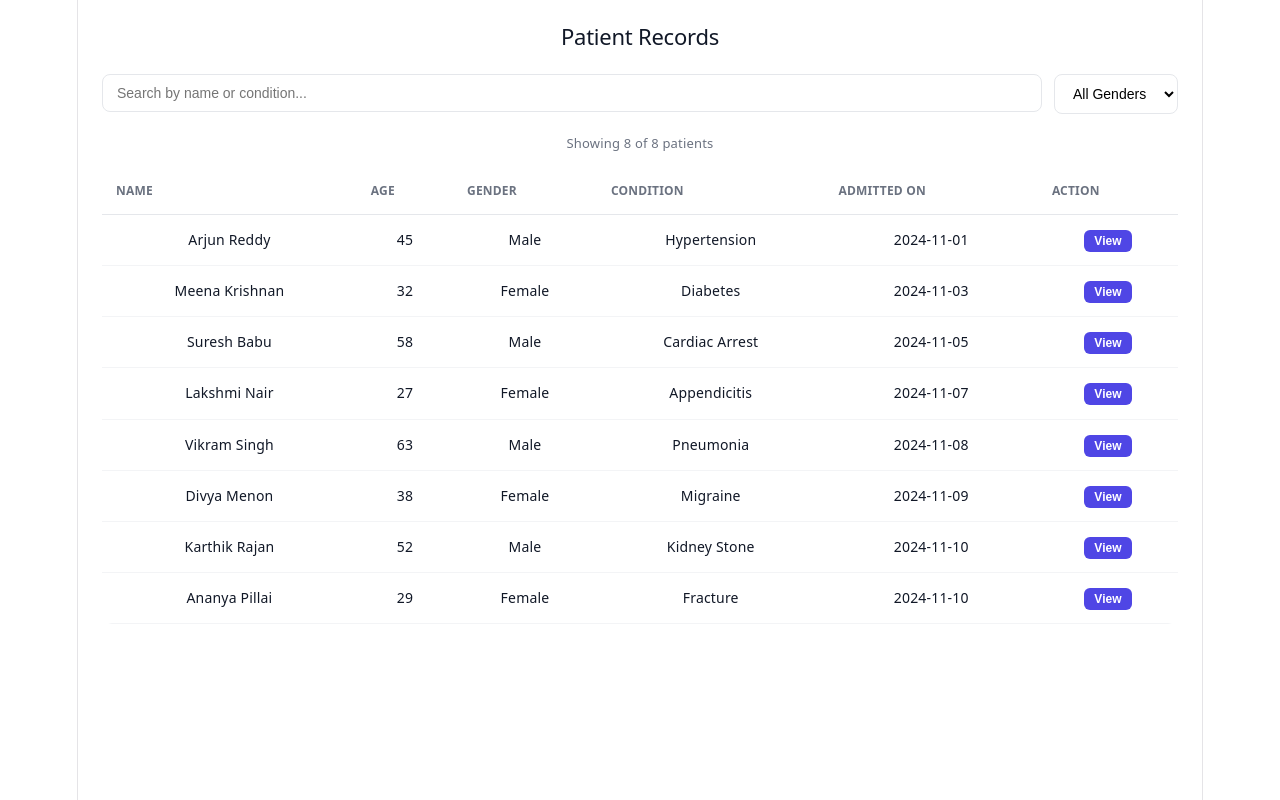
Test case: Patients page › filters patients by search term
Expected: the text "Arjun Reddy" is shown, 102,215 -> 357,266
Type "Meena" into the field with placeholder "Search by name or condition..." at (572, 93), box 102,74 -> 1042,112
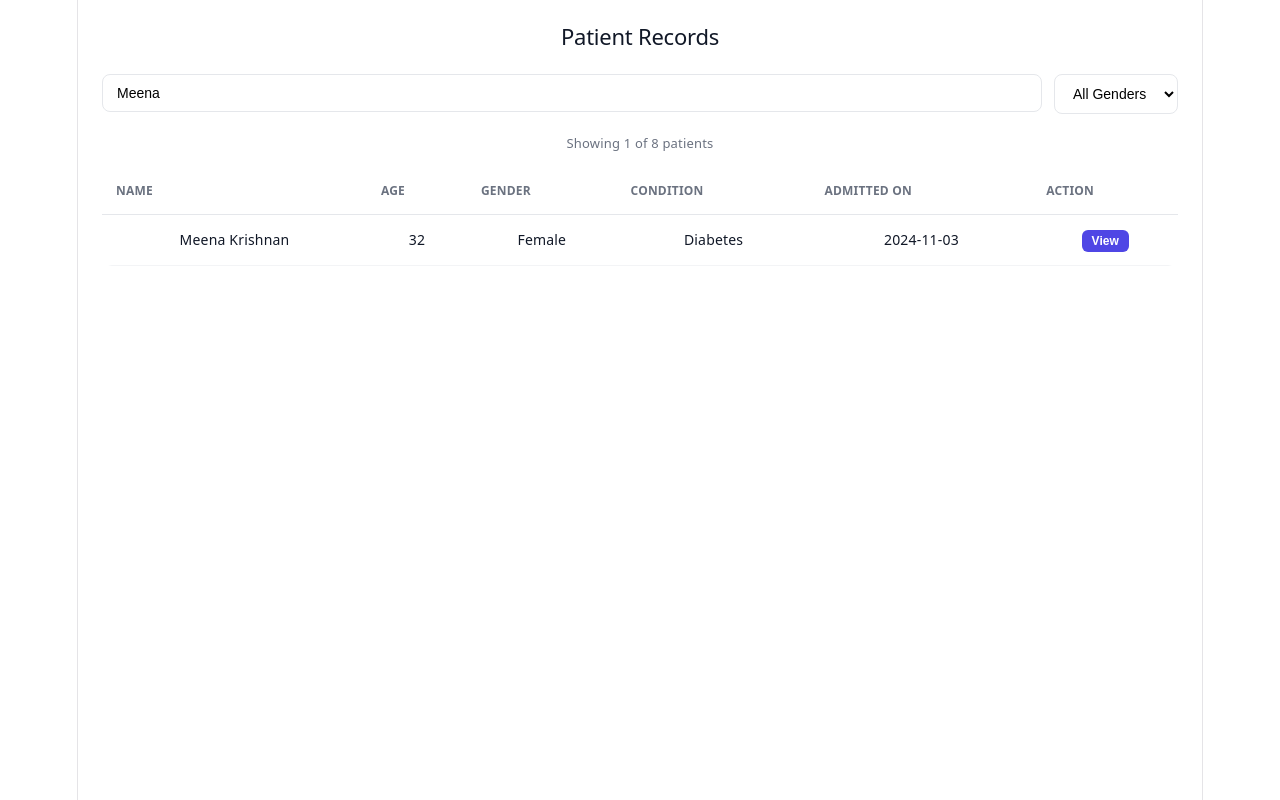
Expected: the text "Meena Krishnan" is shown, 102,215 -> 367,266
Now the text "Arjun Reddy" is gone
